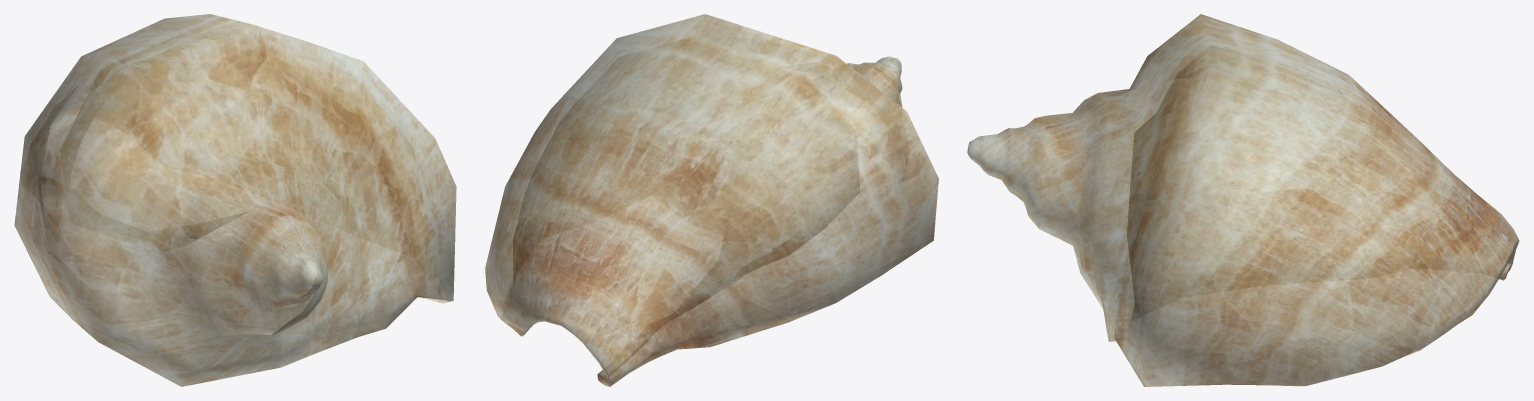
Rendered from shell.gltf.
3 views of the same model, side by side, from view 1: azimuth 30°, elevation 25°; view 2: azimuth 150°, elevation 25°; view 3: azimuth 270°, elevation 25° (orthographic). The views are drawn at different scales.
Parts seen in each view (by area): view 1: shell; view 2: shell; view 3: shell.
Boxes of the visible parts, x1,y1,x2,y2 form: shell: (14,14,456,386); shell: (485,14,938,386); shell: (967,14,1519,386).
Size of the model in its own units: 4.92 by 3.4 by 6.54.
1 material, 1 textured.
